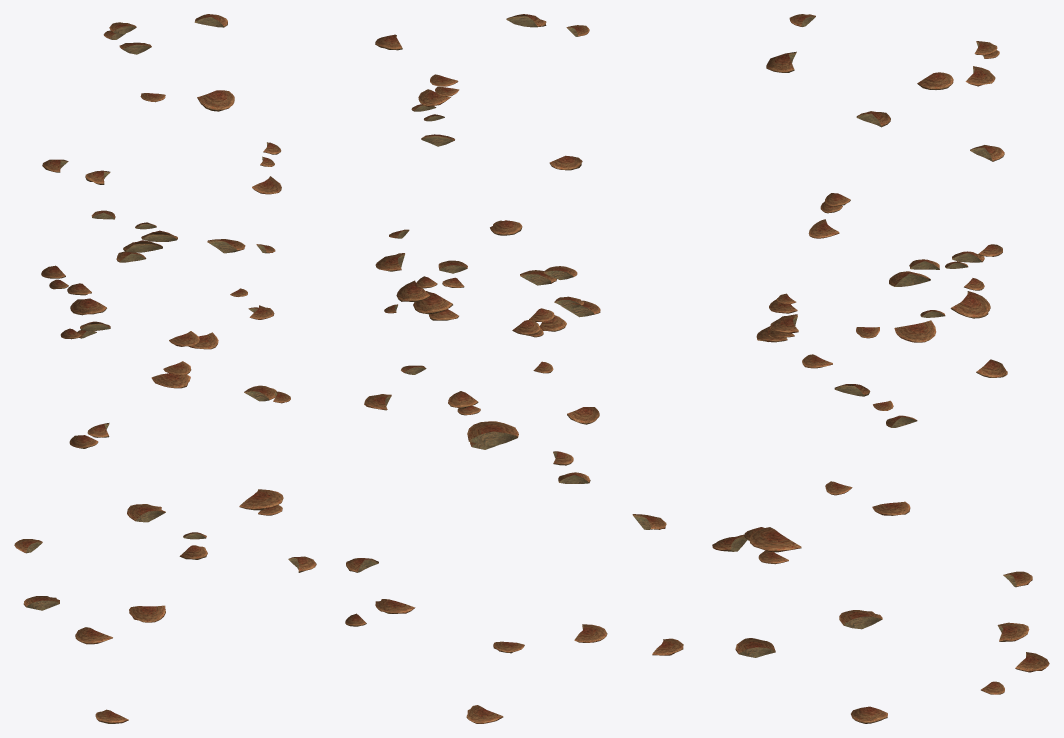
Rendered from Redwood2_Mushrooms.fbx.
The picture shows the model from 3 angles, left to right: view 1: azimuth 30°, elevation 25°; view 2: azimuth 150°, elevation 25°; view 3: azimuth 270°, elevation 25°; orthographic projection. The views are drawn at different scales.
Parts seen in each view (by area): view 1: Shrooms_MatSG; view 2: Shrooms_MatSG; view 3: Shrooms_MatSG.
Boxes of the visible parts, x1,y1,x2,y2 form: Shrooms_MatSG: [14, 14, 316, 723]; Shrooms_MatSG: [345, 14, 683, 723]; Shrooms_MatSG: [712, 14, 1049, 723].
Bounding box in the file's own units: 127 × 274 × 123.
